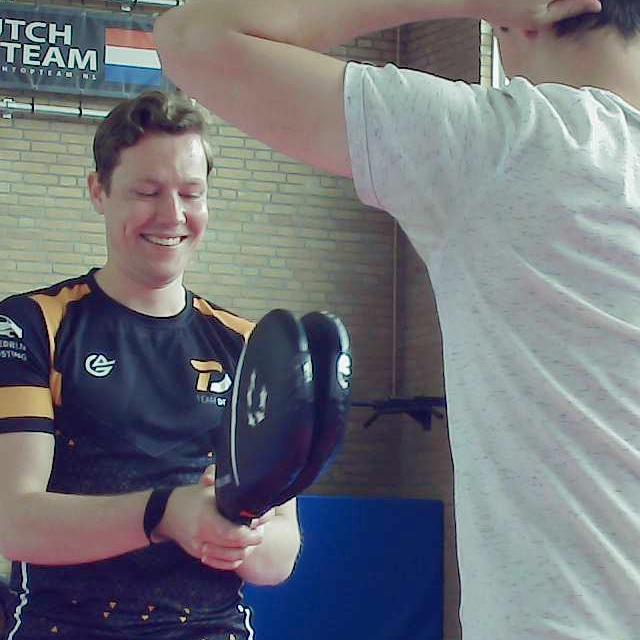paddle: (211, 306, 353, 527)
